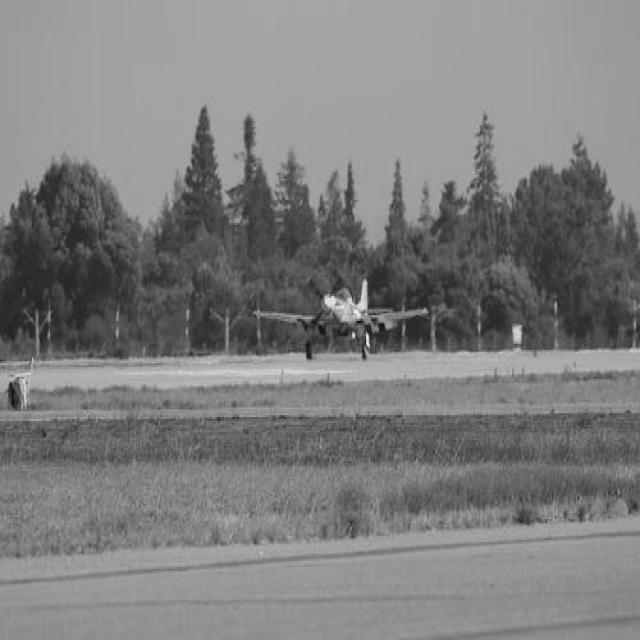aeroplane: (252, 274, 428, 360)
